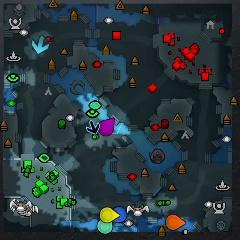p1: (112, 207, 127, 222)
p2: (97, 220, 113, 234)
p3: (98, 118, 115, 136)
p4: (100, 207, 119, 223)
p5: (165, 214, 186, 230)
x3: (30, 36, 49, 54)
x3Clone: (86, 119, 100, 135)
